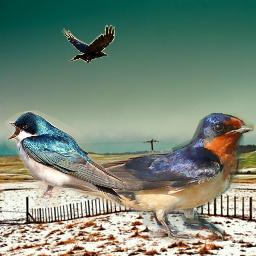Crow: (61, 25, 115, 63)
Swallow: (27, 113, 254, 242), (5, 110, 143, 207)
